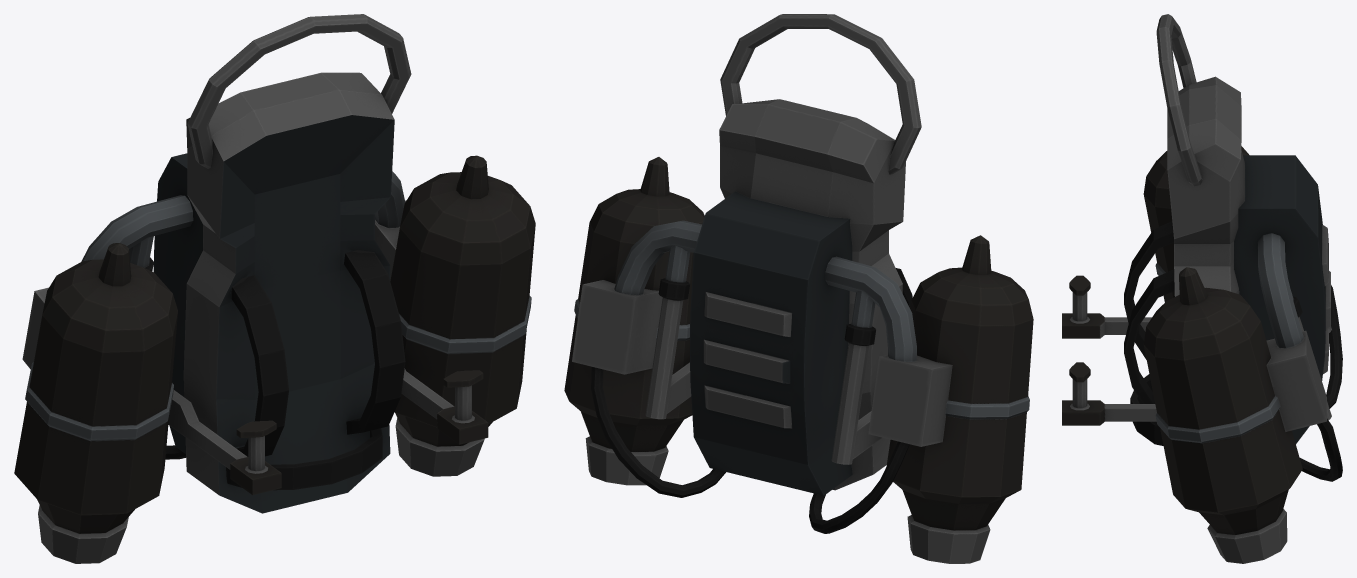
Rendered from dbc415b4-8248-49bf-bc0f-692788566f5e.glb.
3 views of the same model, side by side, from view 1: azimuth 30°, elevation 25°; view 2: azimuth 150°, elevation 25°; view 3: azimuth 270°, elevation 25° (orthographic). The views are drawn at different scales.
Parts seen in each view (by area): view 1: Jetpack_mesh; view 2: Jetpack_mesh; view 3: Jetpack_mesh.
Boxes of the visible parts, left/top/right/bottom form: Jetpack_mesh: left=14, top=14, right=535, bottom=563; Jetpack_mesh: left=564, top=14, right=1033, bottom=563; Jetpack_mesh: left=1062, top=14, right=1342, bottom=563.
Bounding box in the file's own units: 12.42 × 12.89 × 7.24.
1 material, 1 textured.
